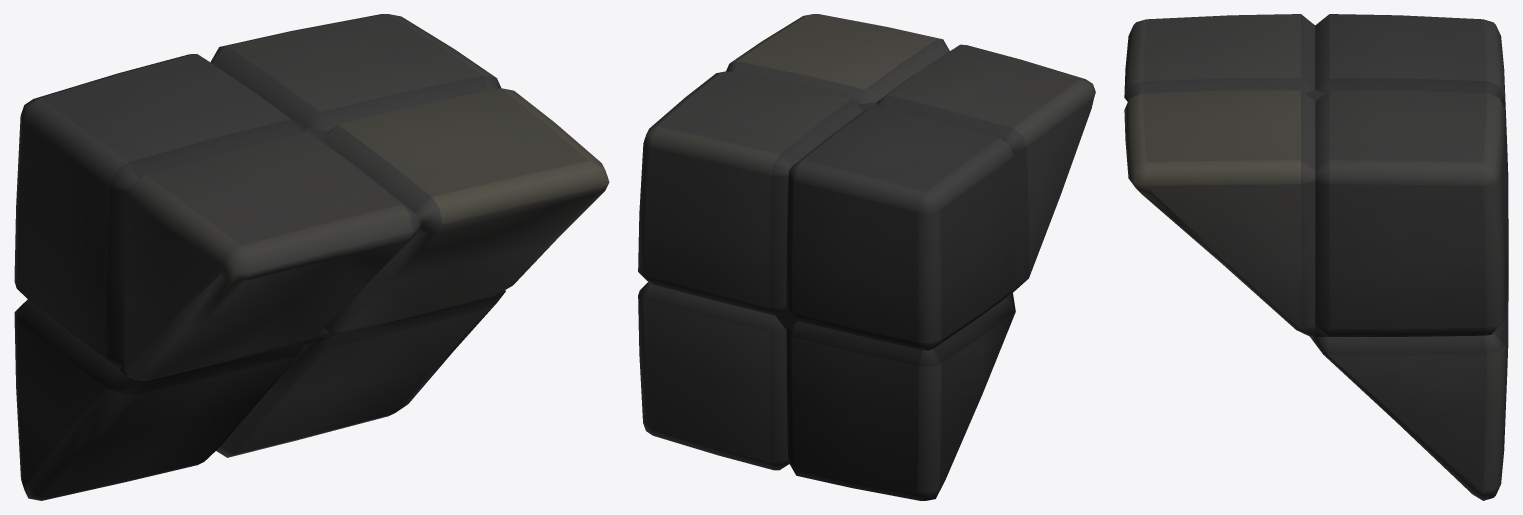
File: Brick_Black_SlopeUnder.fbx
The picture shows the model from 3 angles, left to right: view 1: azimuth 30°, elevation 25°; view 2: azimuth 150°, elevation 25°; view 3: azimuth 270°, elevation 25°; orthographic projection. The views are drawn at different scales.
Parts seen in each view (by area): view 1: Brick_Black_SlopeUnder_LOD0; view 2: Brick_Black_SlopeUnder_LOD0; view 3: Brick_Black_SlopeUnder_LOD0.
Part boxes in pixels (x1=…): Brick_Black_SlopeUnder_LOD0: x1=14, y1=14, x2=609, y2=500; Brick_Black_SlopeUnder_LOD0: x1=638, y1=14, x2=1095, y2=500; Brick_Black_SlopeUnder_LOD0: x1=1124, y1=14, x2=1508, y2=500.
Size of what is drawn, in the model's own units: 1.08 by 1.07 by 1.07.
